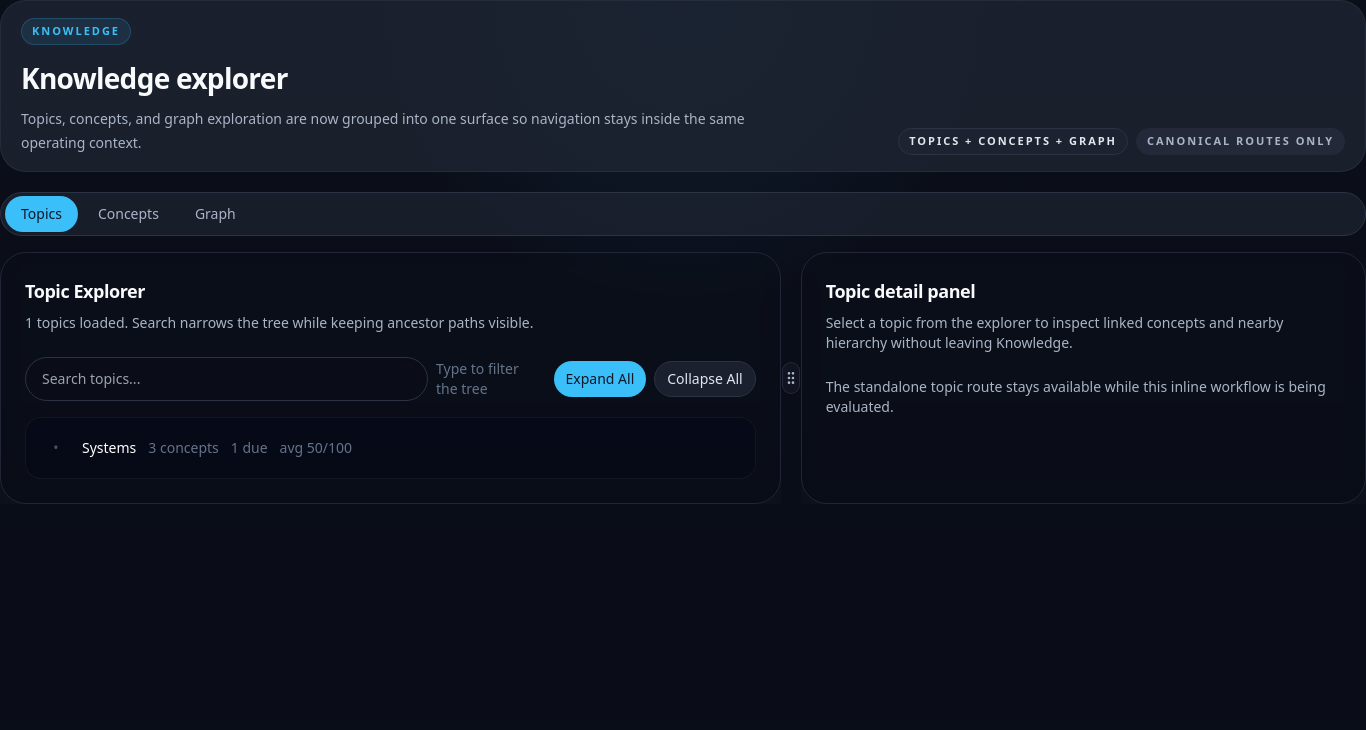
Test: KnowledgePage › renders the topics tab on /knowledge and shows inline topic detail
Check: the heading "Knowledge explorer" is shown, box [21,58,288,96]
Check: the heading "Topic Explorer" is shown, box [25,278,145,302]
Click the button "Systems". click: (109, 448)
box: [82,438,136,458]
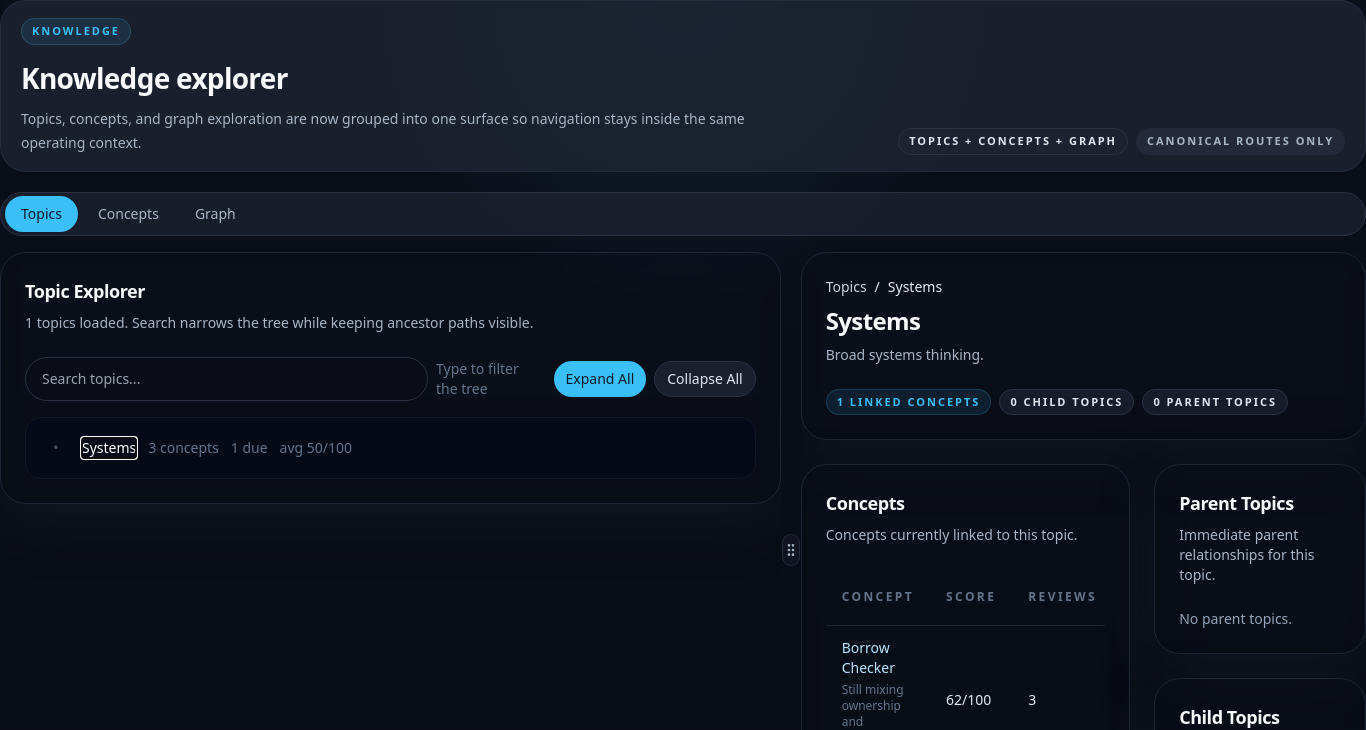
Check: the heading "Systems" is shown, box [826,304,920,336]
Check: the text "Broad systems thinking." is shown, box [826,344,984,364]
Check: the link "Borrow Checker" is shown, box [842,638,895,677]
